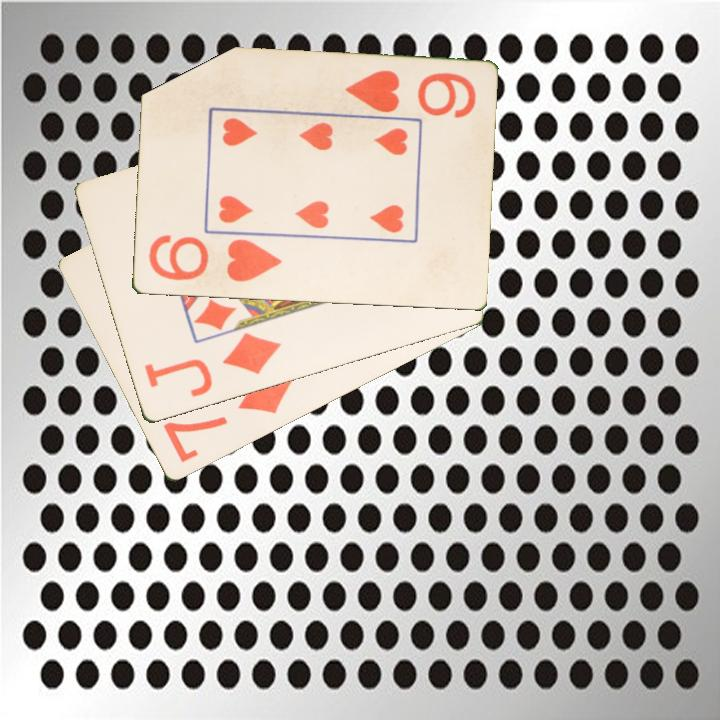6h: (144, 233, 285, 289), (341, 66, 479, 120)
7d: (159, 371, 296, 467)
Jd: (140, 329, 284, 401)
